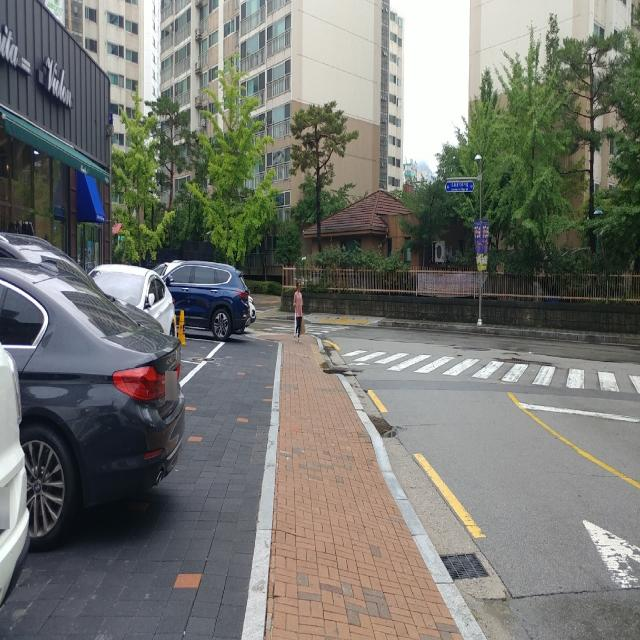횡단보도: (338, 338, 640, 399), (262, 324, 357, 335)
